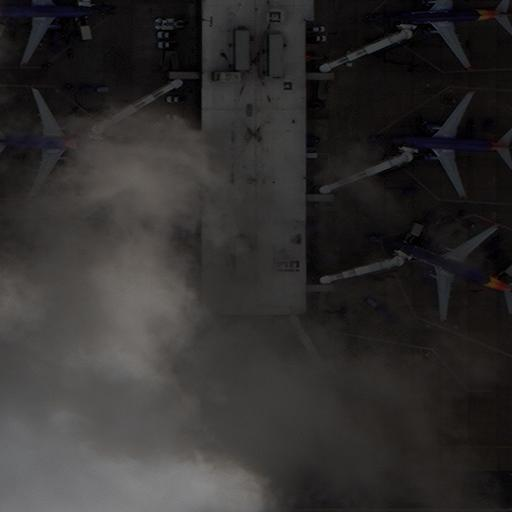Medium Civil Transport: (387, 91, 511, 197), (394, 224, 511, 318), (0, 89, 98, 196), (386, 0, 511, 69), (0, 0, 102, 64)
